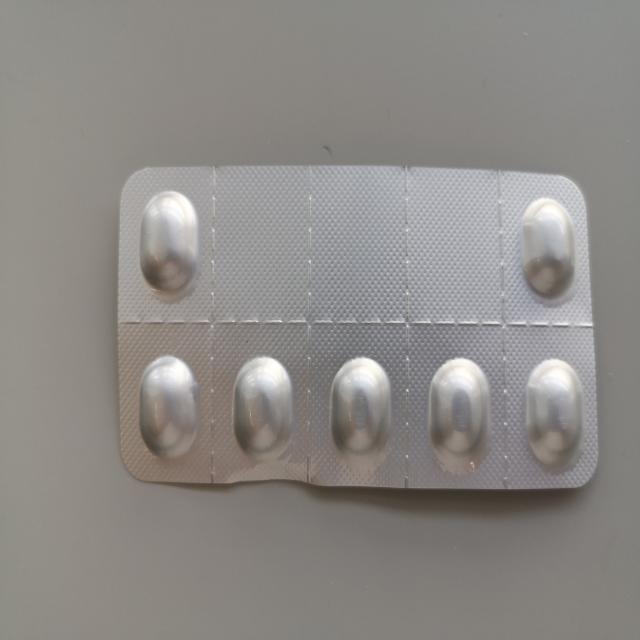Pill: (325, 350, 398, 474), (425, 353, 494, 475), (135, 185, 205, 302), (522, 351, 588, 474), (228, 352, 298, 466), (132, 351, 202, 462), (517, 189, 580, 308)
